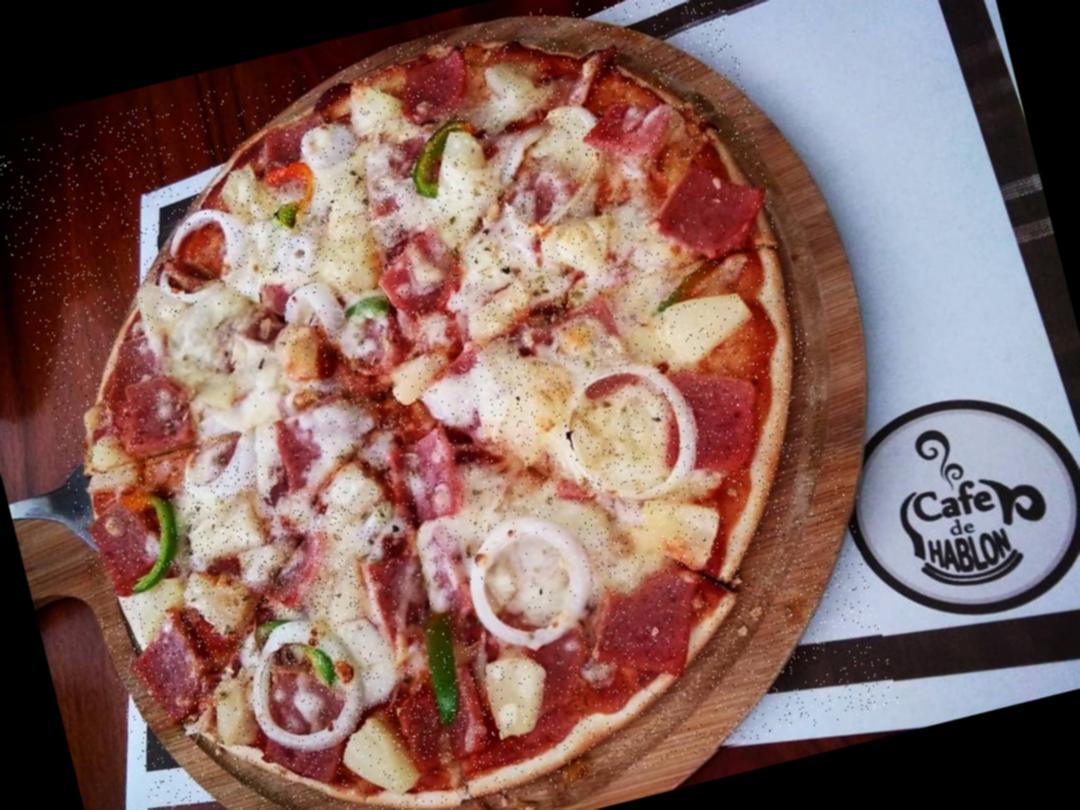Cheese: (430, 166, 665, 477), (153, 292, 307, 444), (243, 162, 415, 280), (241, 494, 384, 624), (176, 462, 296, 592)
Onion: (458, 510, 602, 663), (556, 366, 704, 498), (230, 619, 368, 757), (178, 198, 252, 274)
Pepperoni: (117, 608, 244, 726), (364, 406, 467, 551), (650, 152, 772, 260), (234, 664, 342, 771), (380, 672, 502, 766), (352, 539, 450, 645), (328, 278, 418, 382), (76, 493, 174, 586), (380, 240, 458, 326), (388, 49, 466, 130), (156, 220, 232, 294), (582, 87, 655, 162), (260, 418, 336, 486)
Pizza: (0, 0, 899, 810)
